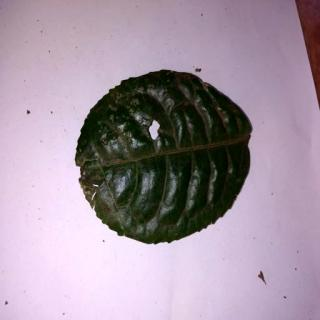Anthracnose: (78, 73, 255, 243)
